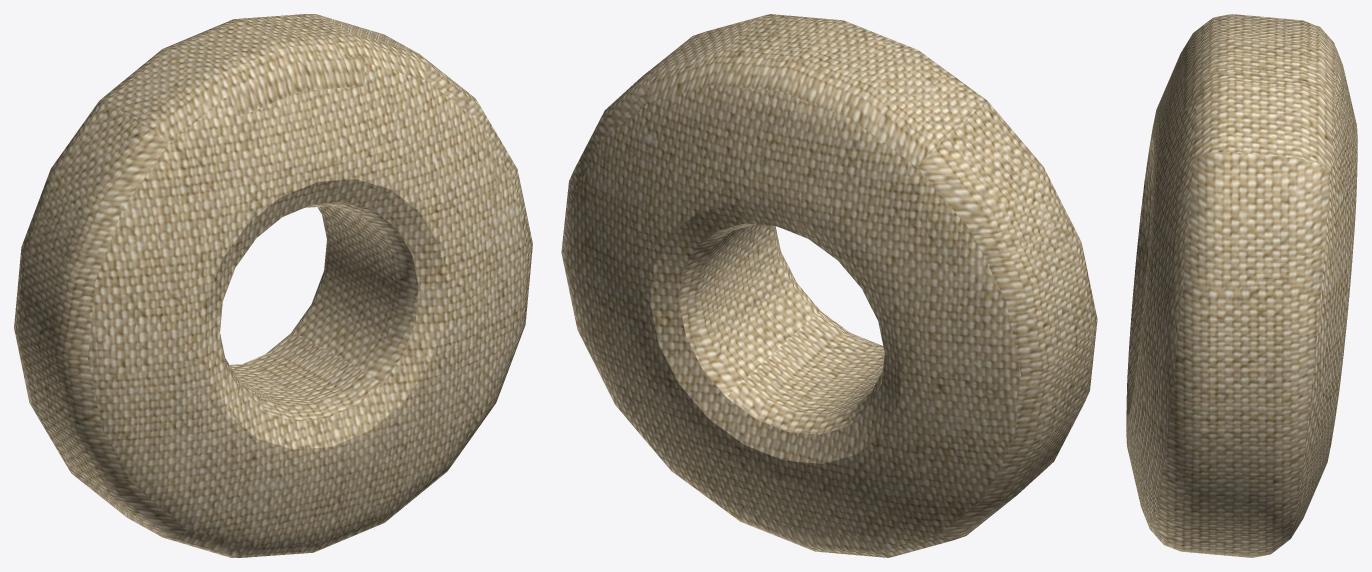
Rendered from HammockRing1.fbx.
3 views of the same model, side by side, from view 1: azimuth 30°, elevation 25°; view 2: azimuth 150°, elevation 25°; view 3: azimuth 270°, elevation 25° (orthographic). The views are drawn at different scales.
Visible parts, largest first — view 1: polySurface103; view 2: polySurface103; view 3: polySurface103.
Part boxes in pixels (x1,y1,x2,y2): polySurface103: [14, 14, 532, 557]; polySurface103: [561, 14, 1097, 557]; polySurface103: [1126, 14, 1357, 557].
Bounding box in the file's own units: 0.00554 × 0.00558 × 0.00236.
1 material, 1 textured.
